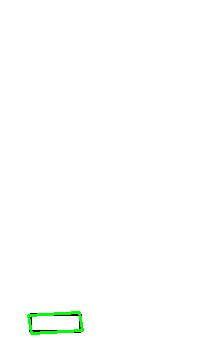line_segment: (28, 312, 83, 334)
